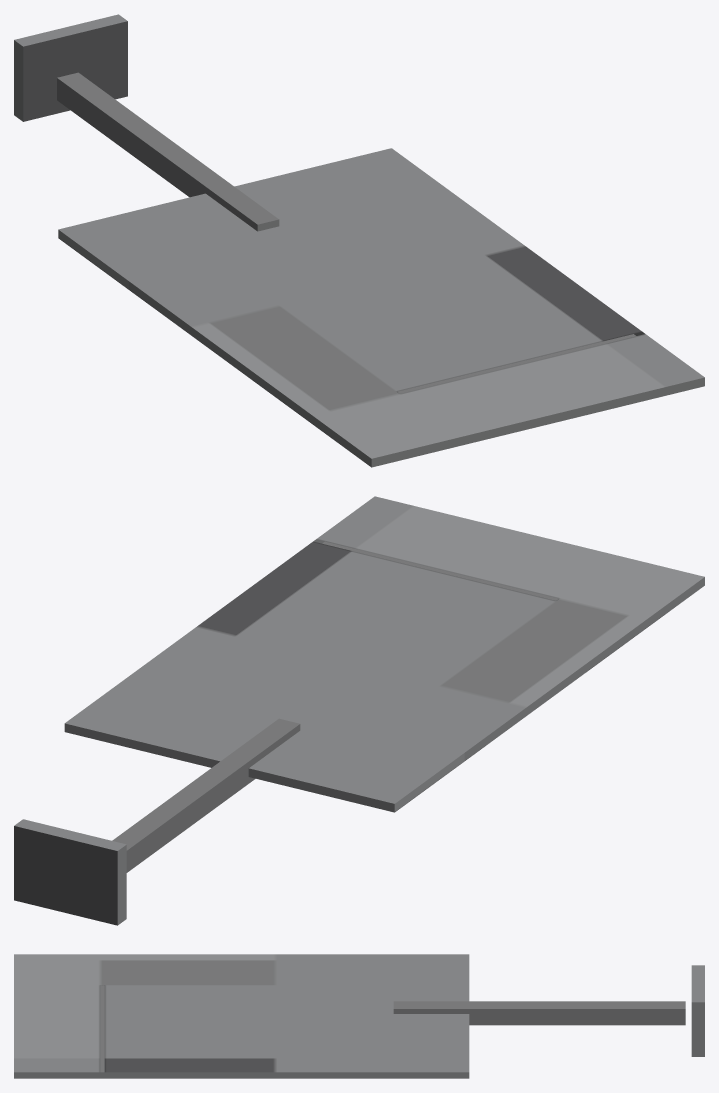
The picture shows the model from 3 angles, top to bottom: view 1: azimuth 30°, elevation 25°; view 2: azimuth 150°, elevation 25°; view 3: azimuth 270°, elevation 25°; orthographic projection. The views are drawn at different scales.
Size of the model in its own units: 0.585 by 0.1262 by 1.44.
